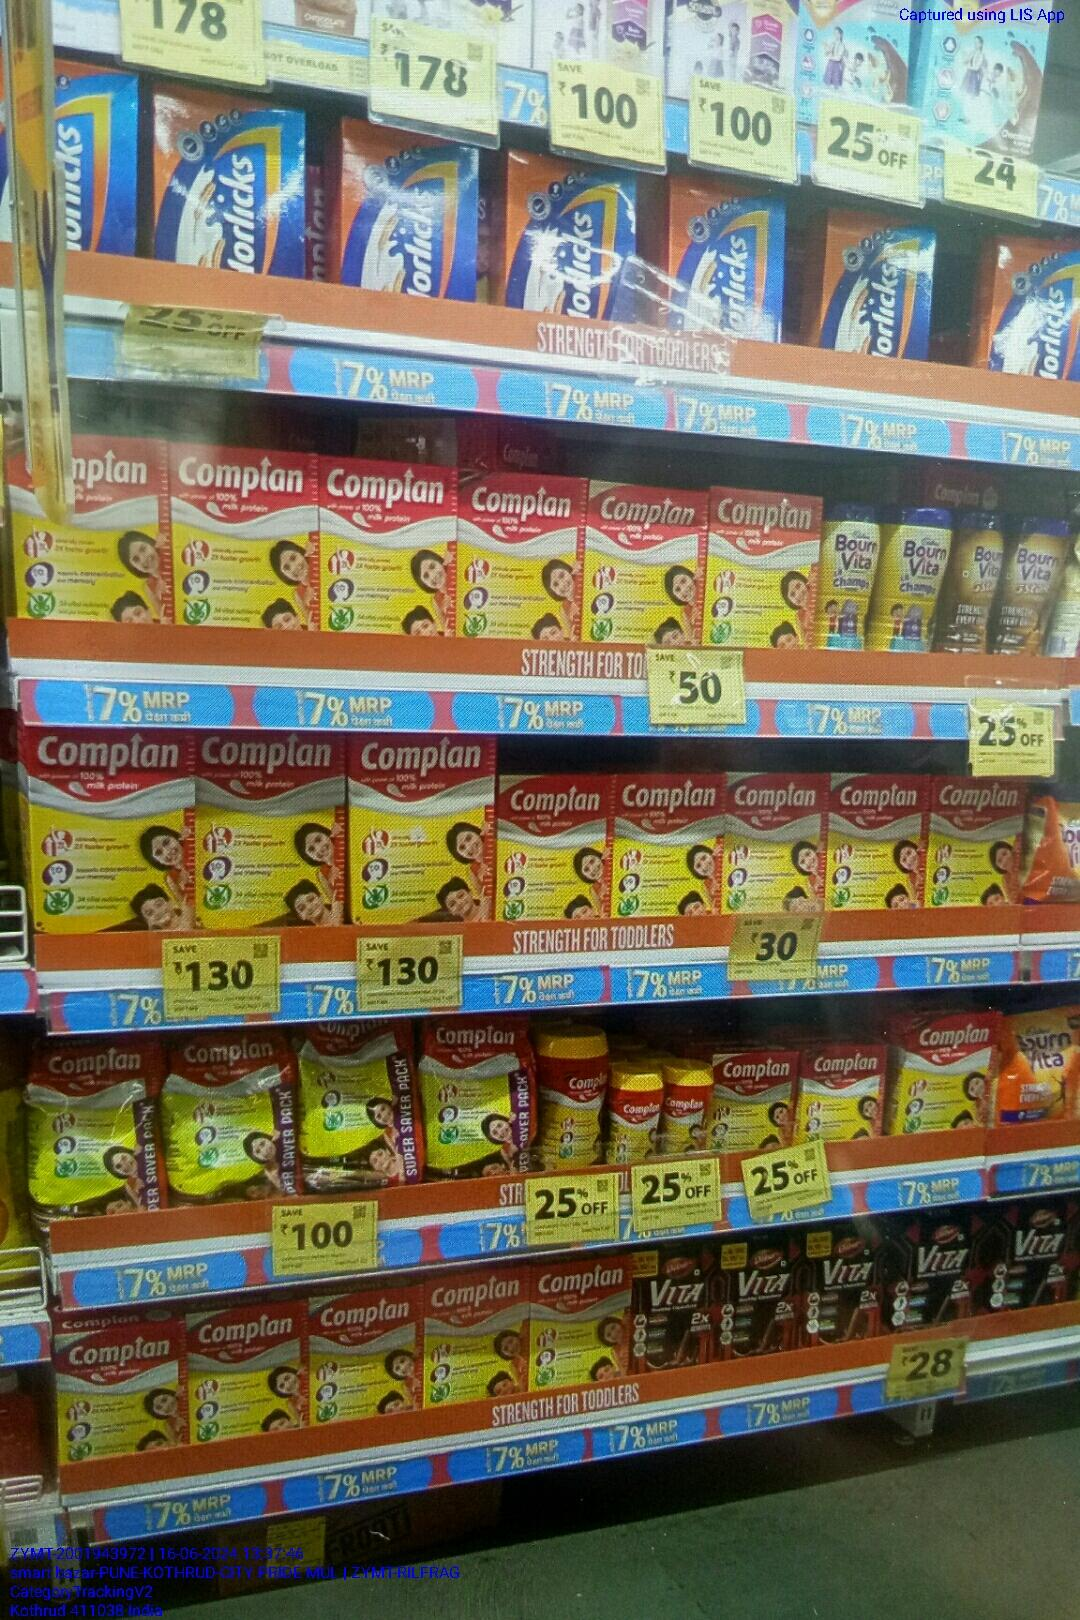BOURN_VITA_CHAMPS_500_G_JAR: (886, 507, 951, 658), (822, 500, 882, 653)
BOURN_VITA_FIVE_STAR_MAGIC_500_G_JAR: (1004, 512, 1068, 661), (953, 509, 1002, 667)
COMPLAN_CHOCOLATE_200_GMS_JAR: (611, 1072, 663, 1167), (665, 1069, 709, 1156)
COMPLAN_CHOCOLATE_500_GMS_JAR: (538, 1027, 610, 1170)
COMPLAN_CREAMY_CLASSIC_500_G_PACK: (53, 1331, 188, 1452), (189, 1308, 309, 1432), (311, 1295, 417, 1427)
COMPLAN_RC_POUCH_700_GMS_12: (30, 1035, 159, 1220), (170, 1027, 298, 1207), (301, 1020, 419, 1195), (421, 1021, 529, 1181)
